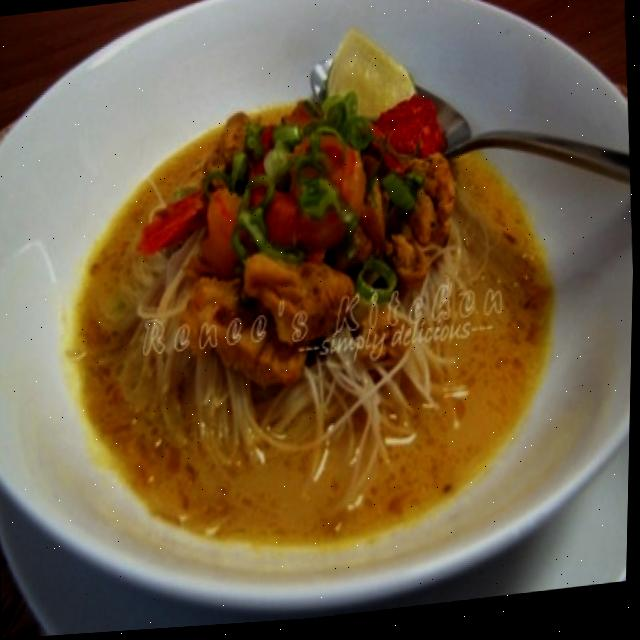汤锅炖物: (2, 0, 634, 615)
